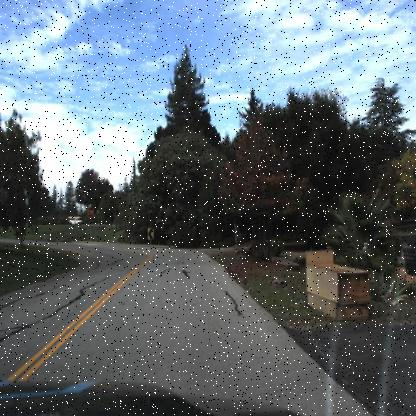car: (66, 211, 83, 225)
